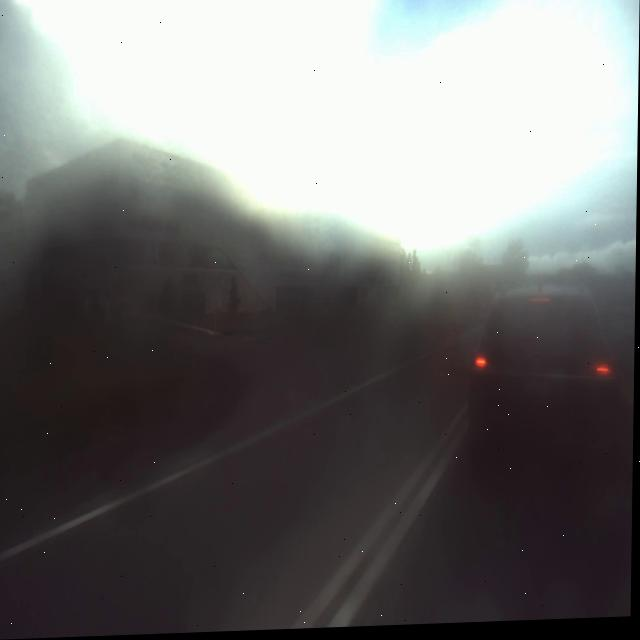car: (473, 276, 631, 468)
